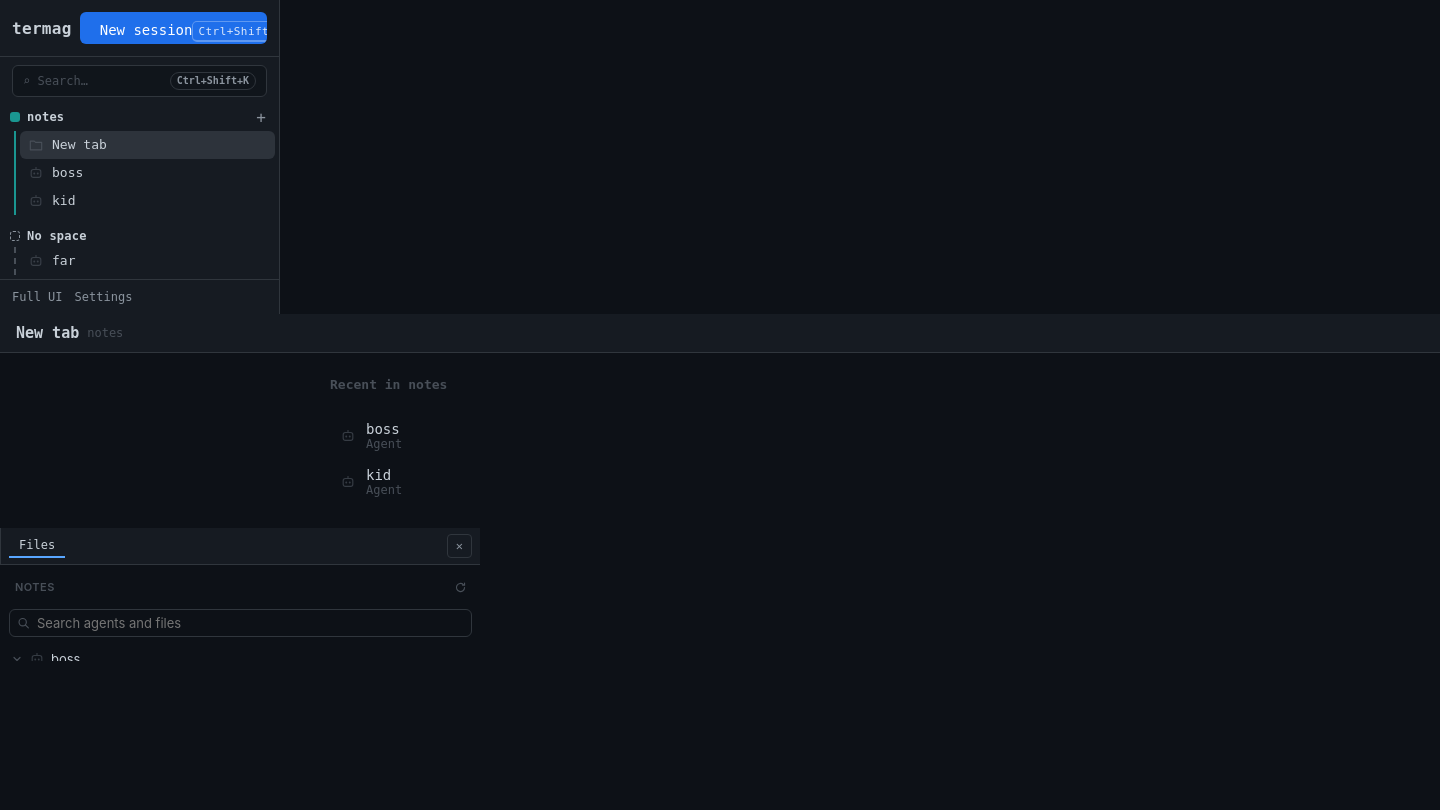
Test: the explorer › a viewer can't start agents in a space
This screenshot has width=1440, height=810.
Click the button "+": [261, 117] box [251,107,271,127]
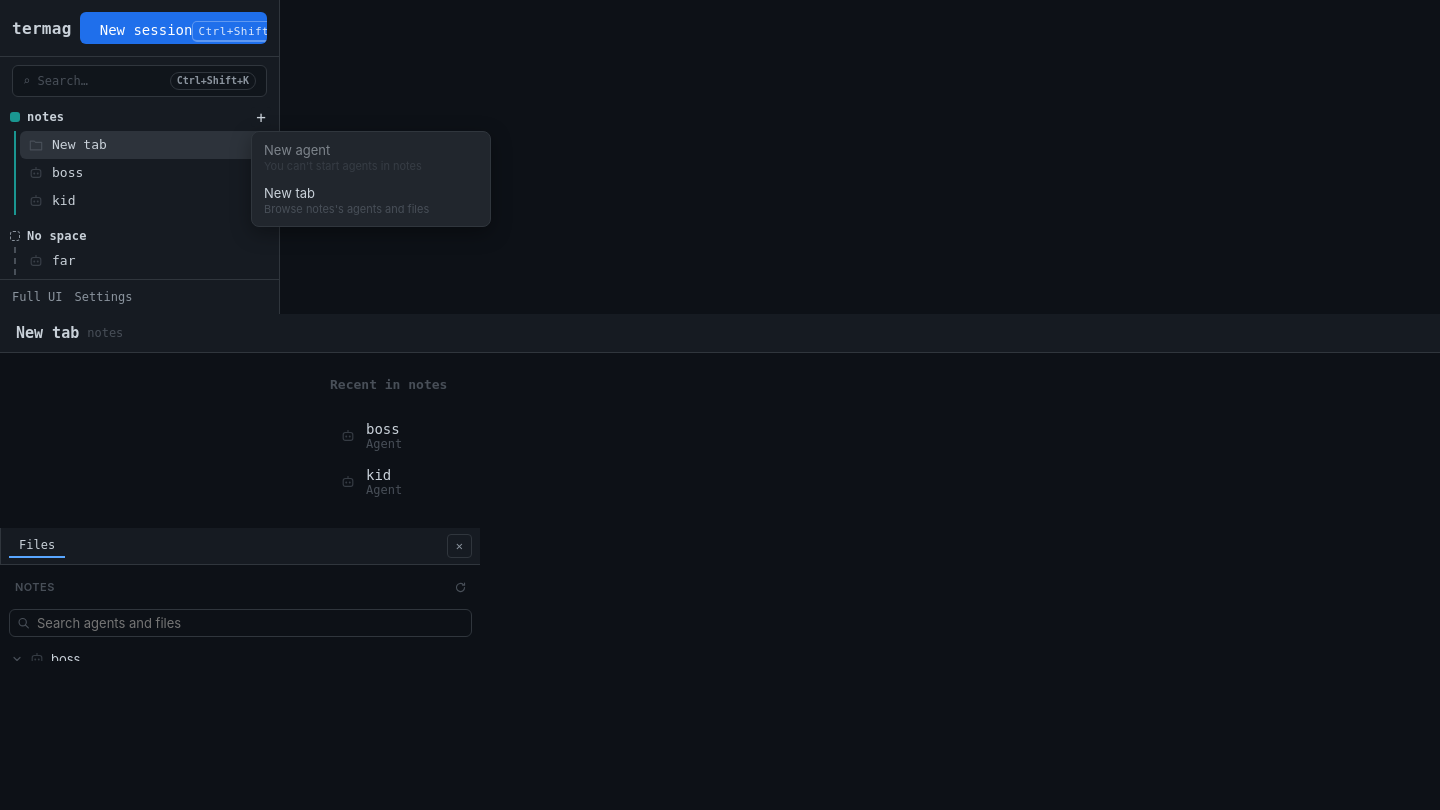
Check: the menu item "New agent You can't start agents in notes" is disabled, box [256,136,486,179]
